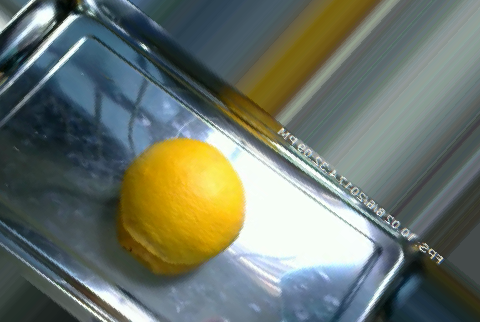Orange: (120, 136, 246, 266)
